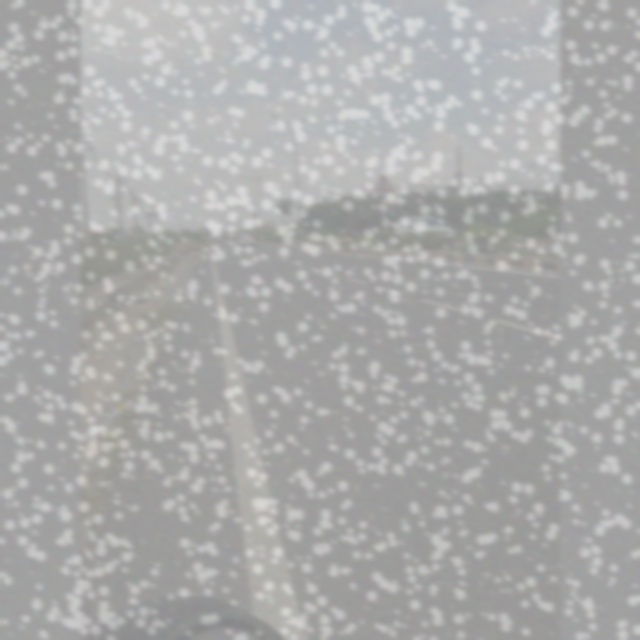Gap_in_Median: (369, 170, 396, 194)
